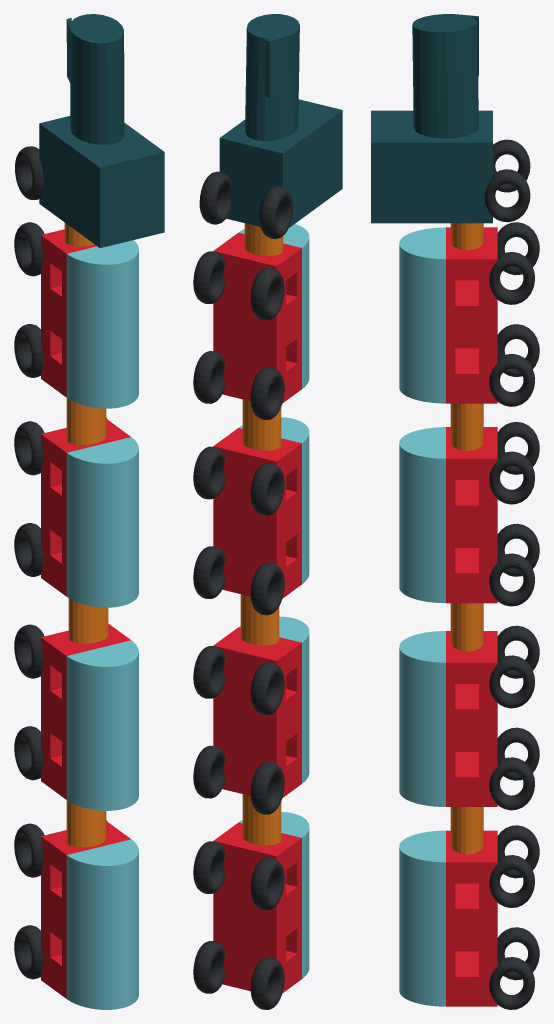
File: tinker.obj
The picture shows the model from 3 angles, left to right: view 1: azimuth 30°, elevation 25°; view 2: azimuth 150°, elevation 25°; view 3: azimuth 270°, elevation 25°; orthographic projection. The views are drawn at different scales.
Visible parts, largest first — view 1: group_0_7720667, group_0_1855578, group_0_15277357, group_0_2829873, group_0_16089887; view 2: group_0_15277357, group_0_2829873, group_0_1855578, group_0_7720667, group_0_16089887; view 3: group_0_15277357, group_0_7720667, group_0_2829873, group_0_1855578, group_0_16089887.
Part boxes in pixels (<box>): group_0_7720667: <box>66,240,138,1009</box>; group_0_1855578: <box>39,14,164,247</box>; group_0_15277357: <box>41,229,130,998</box>; group_0_2829873: <box>14,146,107,979</box>; group_0_16089887: <box>64,223,108,847</box>; group_0_15277357: <box>213,232,301,993</box>; group_0_2829873: <box>193,171,293,1009</box>; group_0_1855578: <box>219,14,342,227</box>; group_0_7720667: <box>239,224,309,978</box>; group_0_16089887: <box>240,223,283,845</box>; group_0_15277357: <box>446,227,497,1006</box>; group_0_7720667: <box>399,227,445,1006</box>; group_0_2829873: <box>484,139,539,1009</box>; group_0_1855578: <box>371,14,492,223</box>; group_0_16089887: <box>450,223,483,854</box>.
Size of the model in its own units: 20 by 229 by 36.
